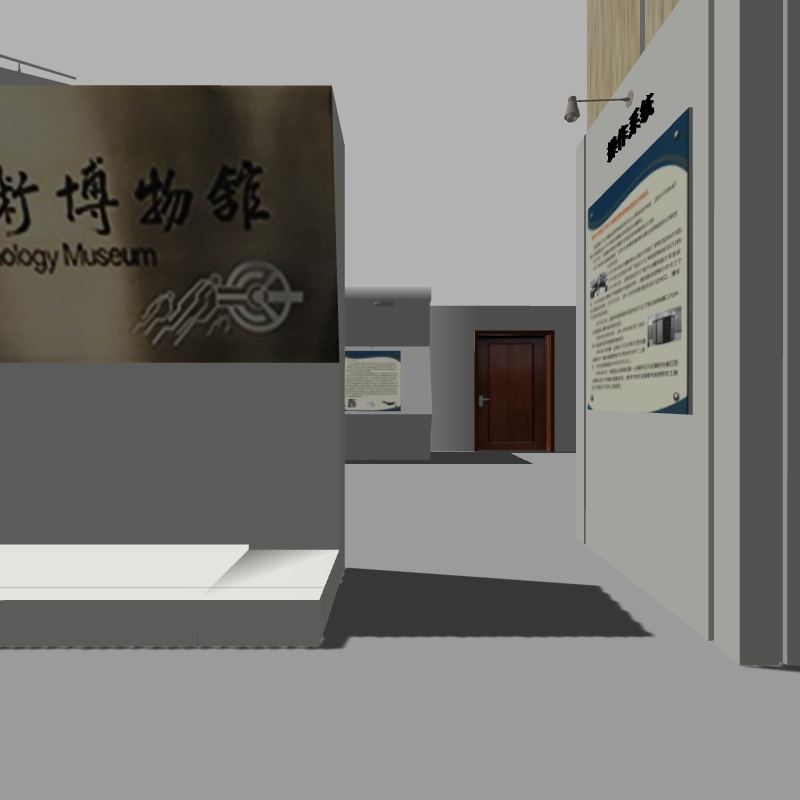handle: (474, 387, 498, 411)
